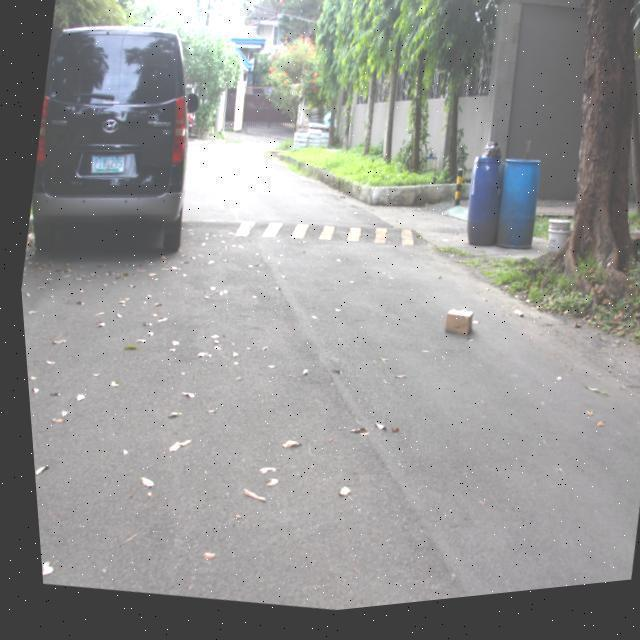Paper_Bag: (437, 314, 470, 348)
